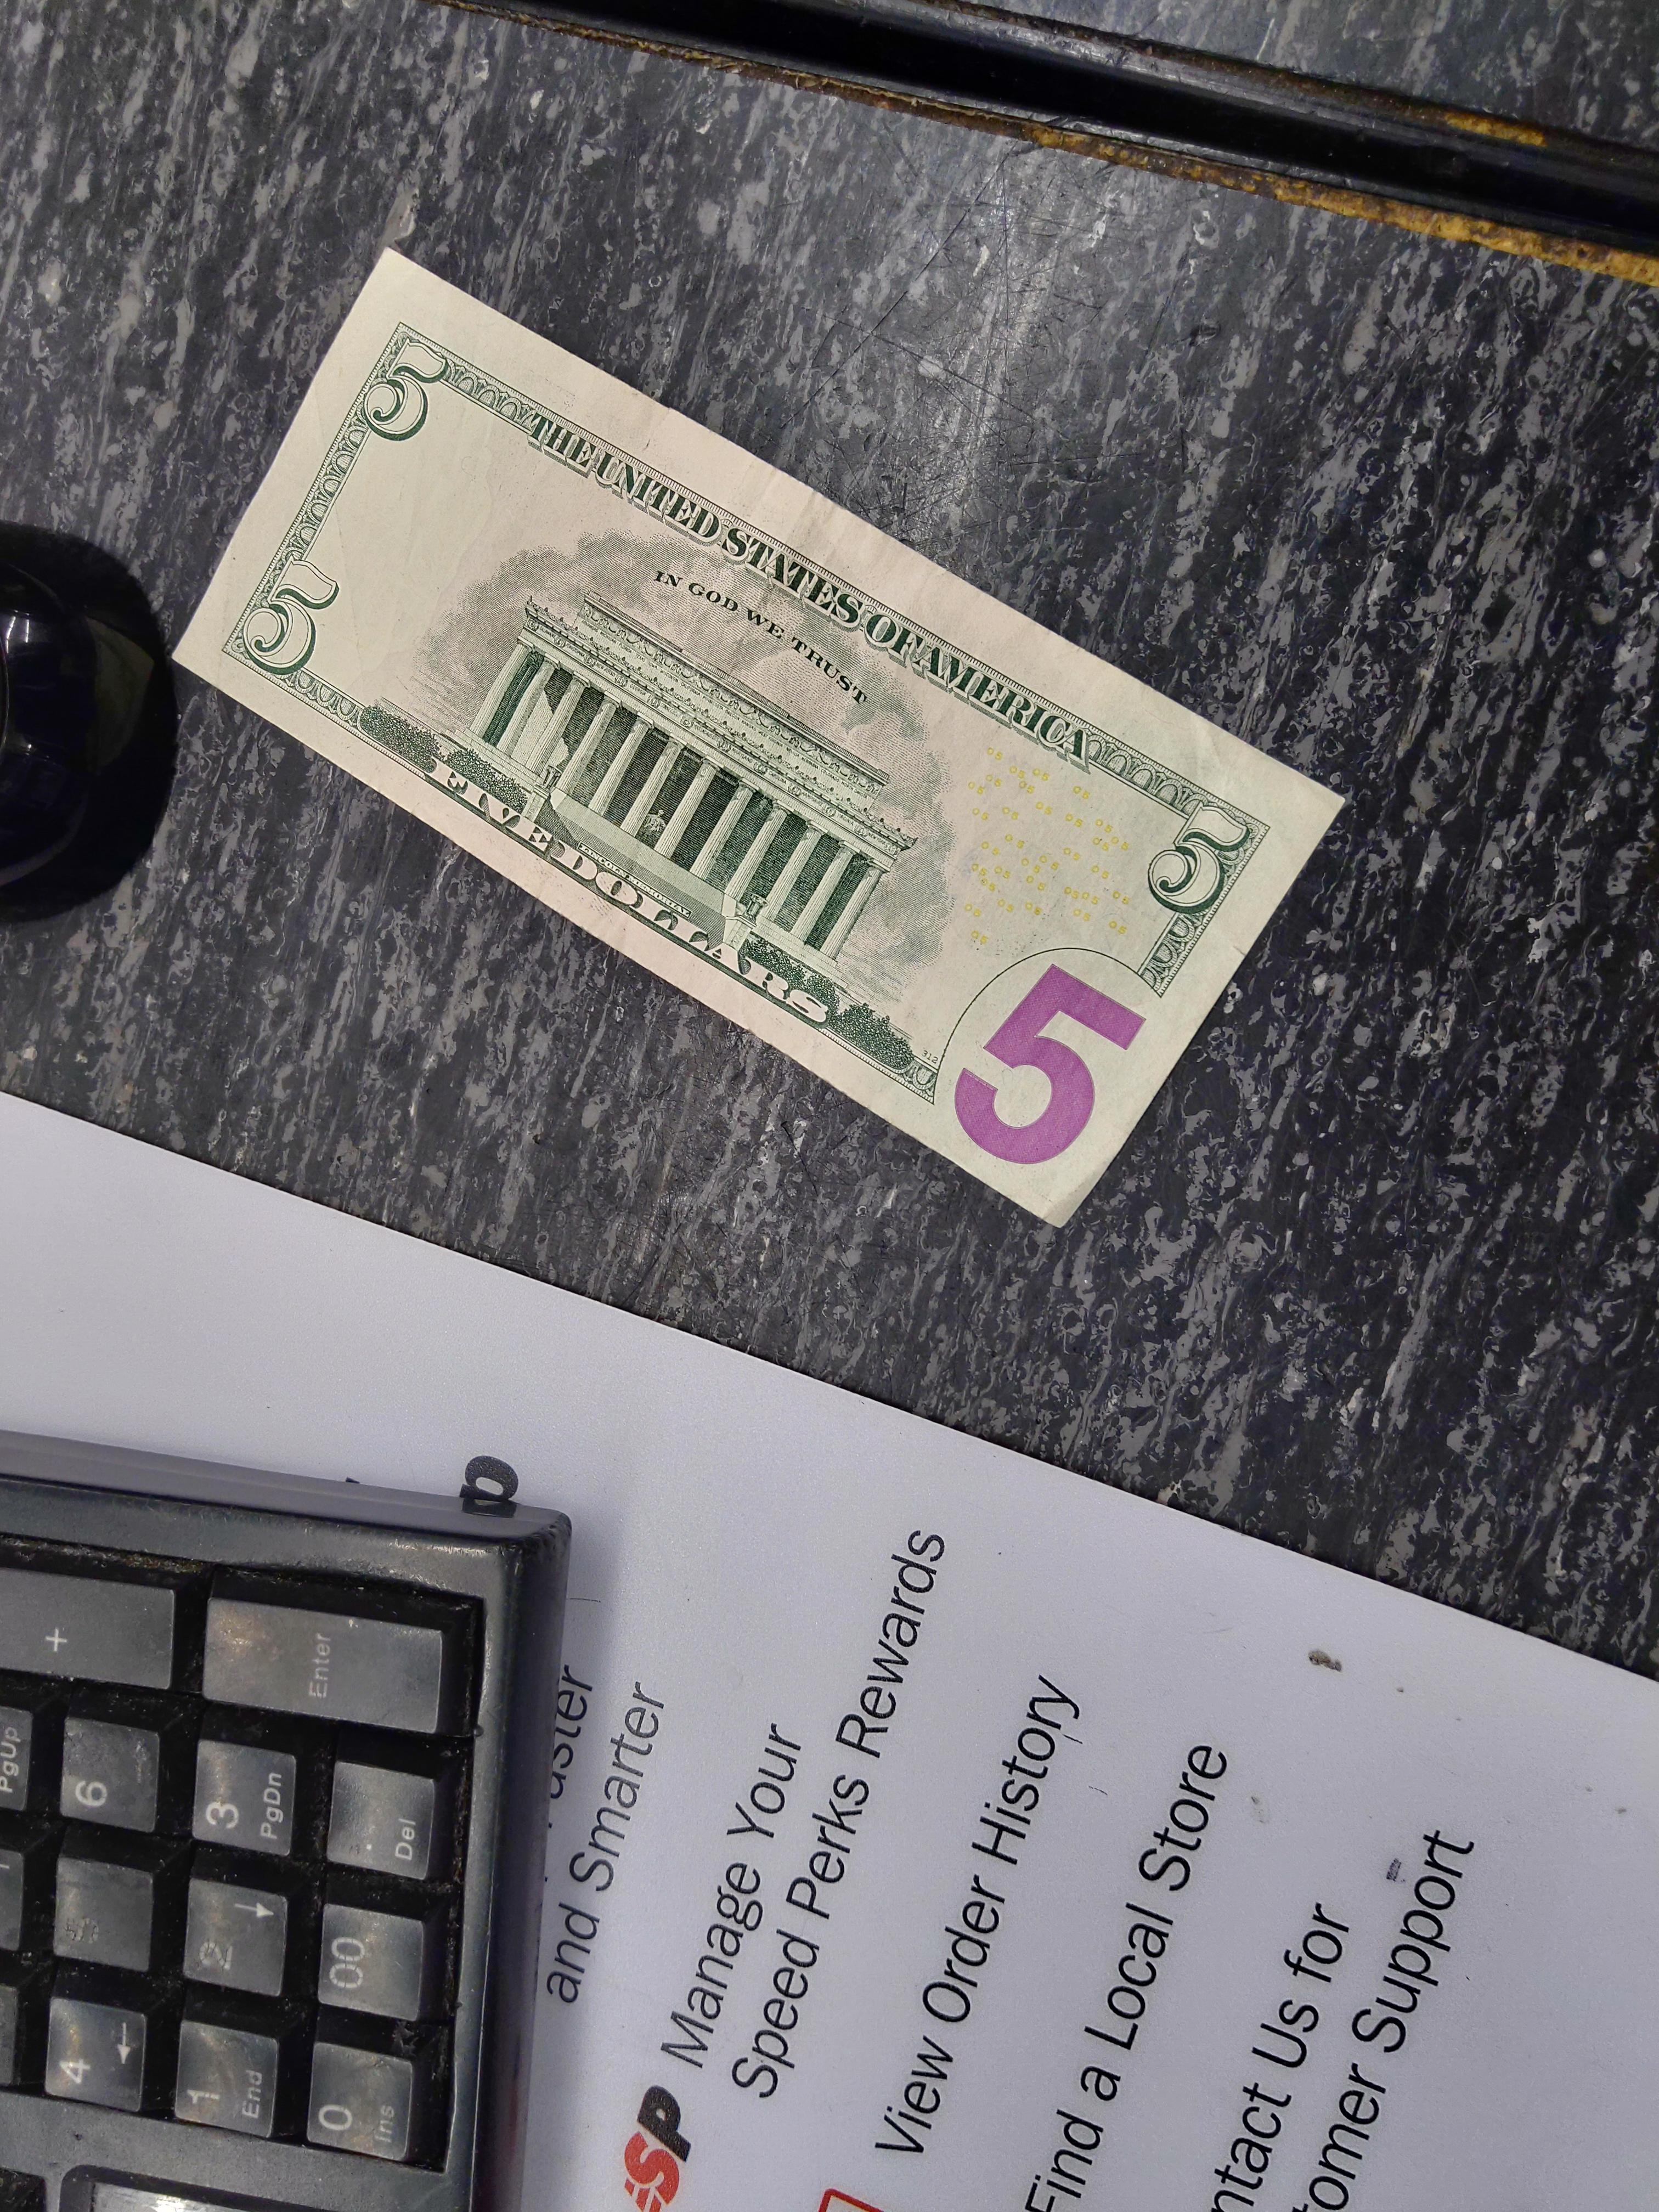FiveBill: (157, 247, 1351, 1226)
